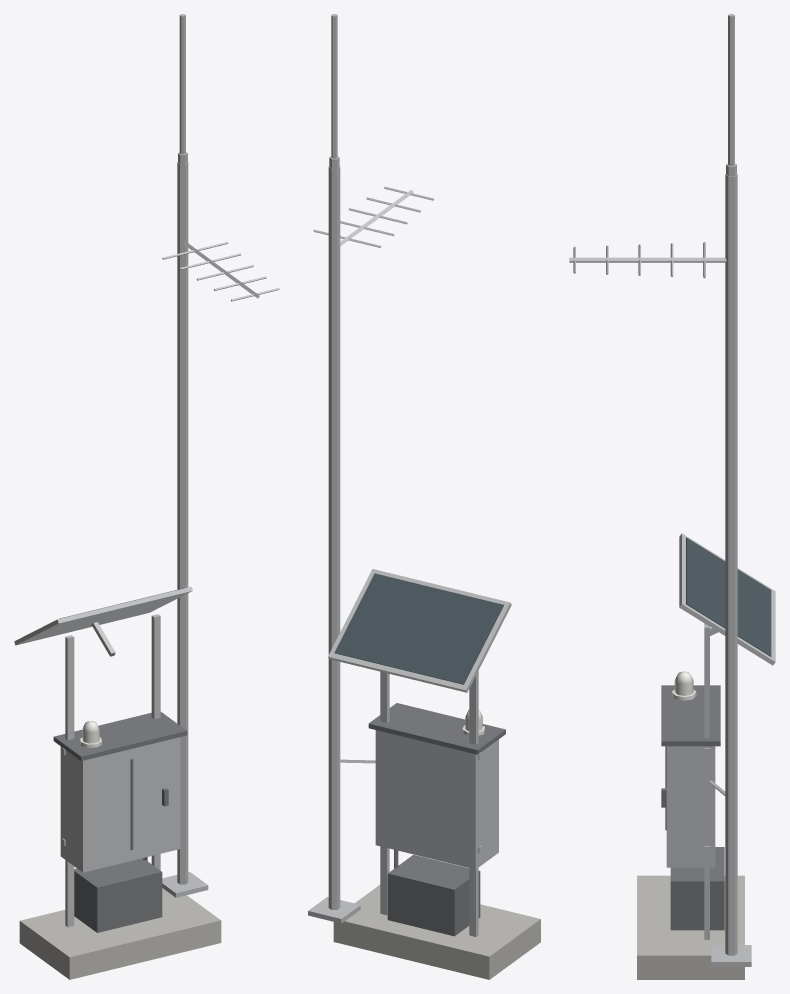
The model's file is rtu_lite.glb.
The picture shows the model from 3 angles, left to right: view 1: azimuth 30°, elevation 25°; view 2: azimuth 150°, elevation 25°; view 3: azimuth 270°, elevation 25°; orthographic projection. The views are drawn at different scales.
Parts seen in each view (by area): view 1: RTU_PAD_KIT_steel, RTU_PAD_KIT_antenna, RTU_PAD_KIT_concrete, RTU_PAD_KIT_steel_dark; view 2: RTU_PAD_KIT_steel, RTU_PAD_KIT_antenna, RTU_PAD_KIT_glass, RTU_PAD_KIT_steel_dark, RTU_PAD_KIT_concrete; view 3: RTU_PAD_KIT_antenna, RTU_PAD_KIT_steel, RTU_PAD_KIT_concrete, RTU_PAD_KIT_steel_dark, RTU_PAD_KIT_glass, RTU_PAD_KIT_light.
Part boxes in pixels (left/top/right/bottom): RTU_PAD_KIT_steel: left=14, top=586, right=192, bottom=927; RTU_PAD_KIT_antenna: left=162, top=14, right=279, bottom=897; RTU_PAD_KIT_concrete: left=19, top=888, right=221, bottom=979; RTU_PAD_KIT_steel_dark: left=53, top=712, right=187, bottom=932; RTU_PAD_KIT_steel: left=328, top=569, right=511, bottom=936; RTU_PAD_KIT_antenna: left=308, top=14, right=433, bottom=923; RTU_PAD_KIT_glass: left=334, top=573, right=503, bottom=684; RTU_PAD_KIT_steel_dark: left=368, top=703, right=505, bottom=936; RTU_PAD_KIT_concrete: left=333, top=885, right=540, bottom=979; RTU_PAD_KIT_antenna: left=569, top=14, right=751, bottom=966; RTU_PAD_KIT_steel: left=666, top=533, right=775, bottom=939; RTU_PAD_KIT_concrete: left=637, top=875, right=744, bottom=979; RTU_PAD_KIT_steel_dark: left=661, top=685, right=724, bottom=930; RTU_PAD_KIT_glass: left=686, top=537, right=771, bottom=656; RTU_PAD_KIT_light: left=672, top=671, right=696, bottom=700.
Size of the model in its own units: 1.75 by 7.9 by 1.53.
